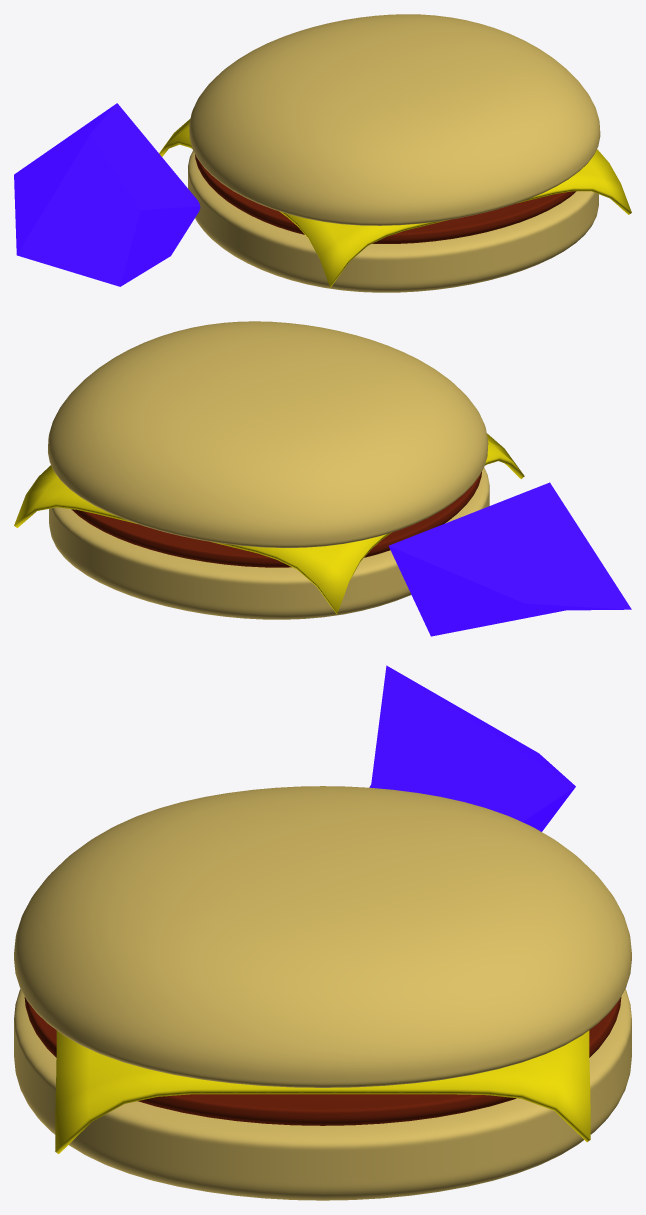
The model's file is burgerGem.glb.
3 renders of one model, top to bottom at view 1: azimuth 30°, elevation 25°; view 2: azimuth 150°, elevation 25°; view 3: azimuth 270°, elevation 25°, orthographic. The views are drawn at different scales.
Visible parts, largest first — view 1: Cube.003, Cube, Cube.001, Plane, Cube.002; view 2: Cube.003, Cube, Cube.001, Plane, Cube.002; view 3: Cube.003, Cube.001, Cube, Plane, Cube.002.
Part boxes in pixels (bbox=[...]): Cube.003: bbox=[189, 14, 600, 225]; Cube: bbox=[14, 103, 200, 286]; Cube.001: bbox=[188, 151, 598, 292]; Plane: bbox=[159, 118, 631, 287]; Cube.002: bbox=[195, 154, 576, 243]; Cube.003: bbox=[48, 321, 488, 547]; Cube: bbox=[389, 482, 631, 636]; Cube.001: bbox=[49, 467, 489, 619]; Plane: bbox=[14, 433, 524, 613]; Cube.002: bbox=[71, 472, 481, 567]; Cube.003: bbox=[14, 786, 631, 1087]; Cube.001: bbox=[14, 989, 631, 1200]; Cube: bbox=[369, 665, 575, 831]; Plane: bbox=[55, 1030, 590, 1153]; Cube.002: bbox=[24, 997, 621, 1125].
Bounding box in the file's own units: 9.26 × 2.91 × 6.06.
